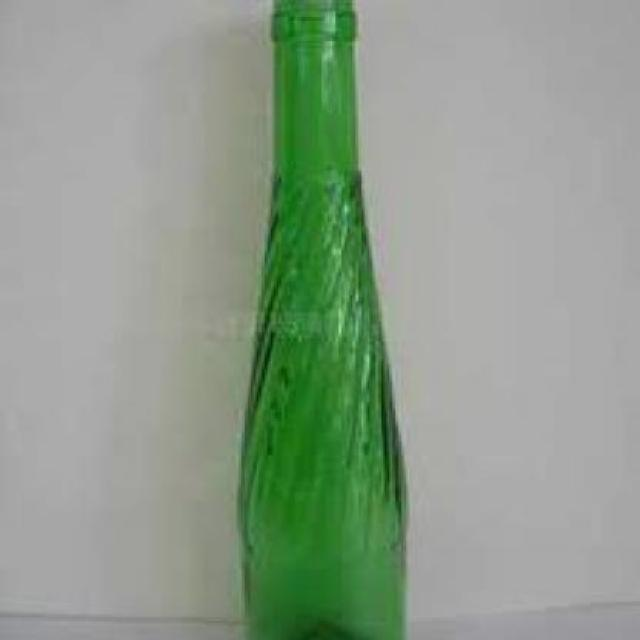kaca: (237, 0, 408, 637)
